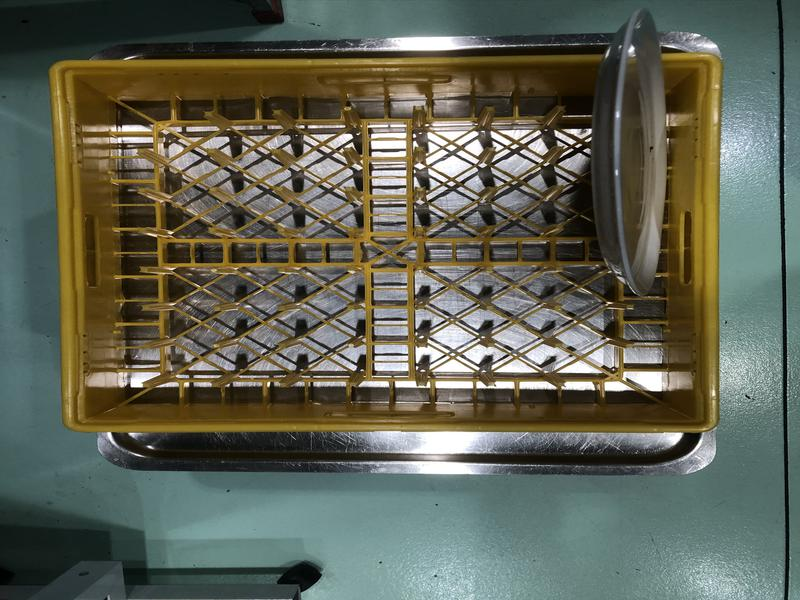Dish: (597, 10, 670, 296)
